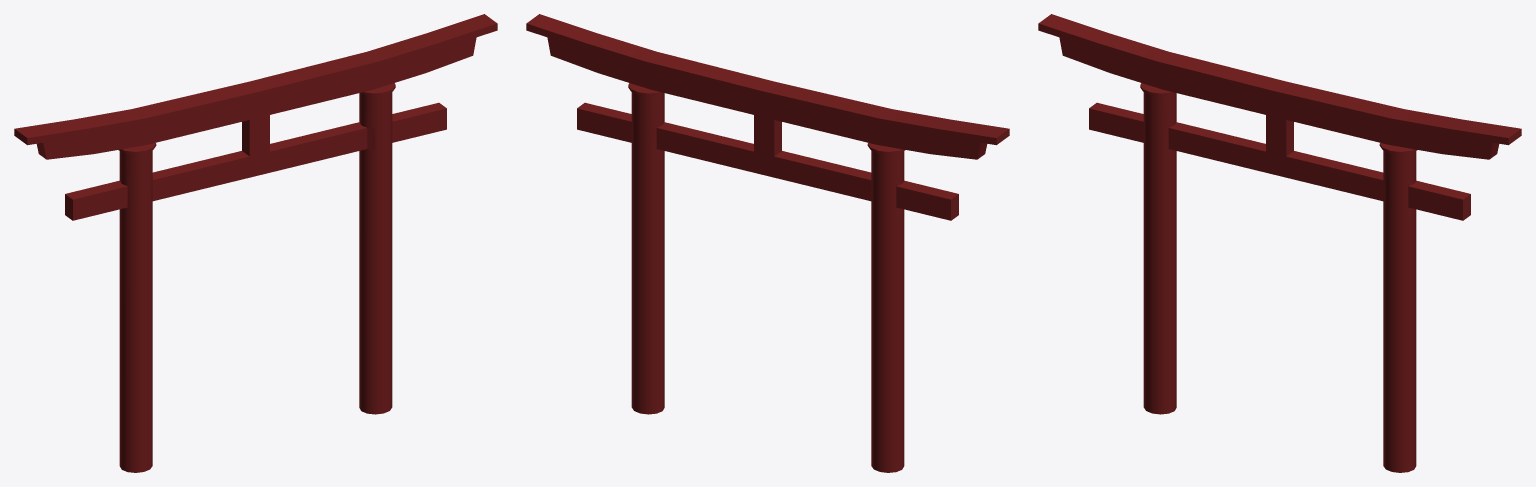
Rendered from Entrada puerta.fbx.
3 views of the same model, side by side, from view 1: azimuth 30°, elevation 25°; view 2: azimuth 150°, elevation 25°; view 3: azimuth 330°, elevation 25° (orthographic).
Visible parts, largest first — view 1: Escenario__1_:pCylinder3tori3; view 2: Escenario__1_:pCylinder3tori3; view 3: Escenario__1_:pCylinder3tori3.
Boxes of the visible parts, box(x1,y1,x2,y2) form: Escenario__1_:pCylinder3tori3: box(14, 14, 497, 472); Escenario__1_:pCylinder3tori3: box(526, 14, 1009, 472); Escenario__1_:pCylinder3tori3: box(1038, 14, 1521, 472).
Bounding box in the file's own units: 21.22 × 15.56 × 1.5.
